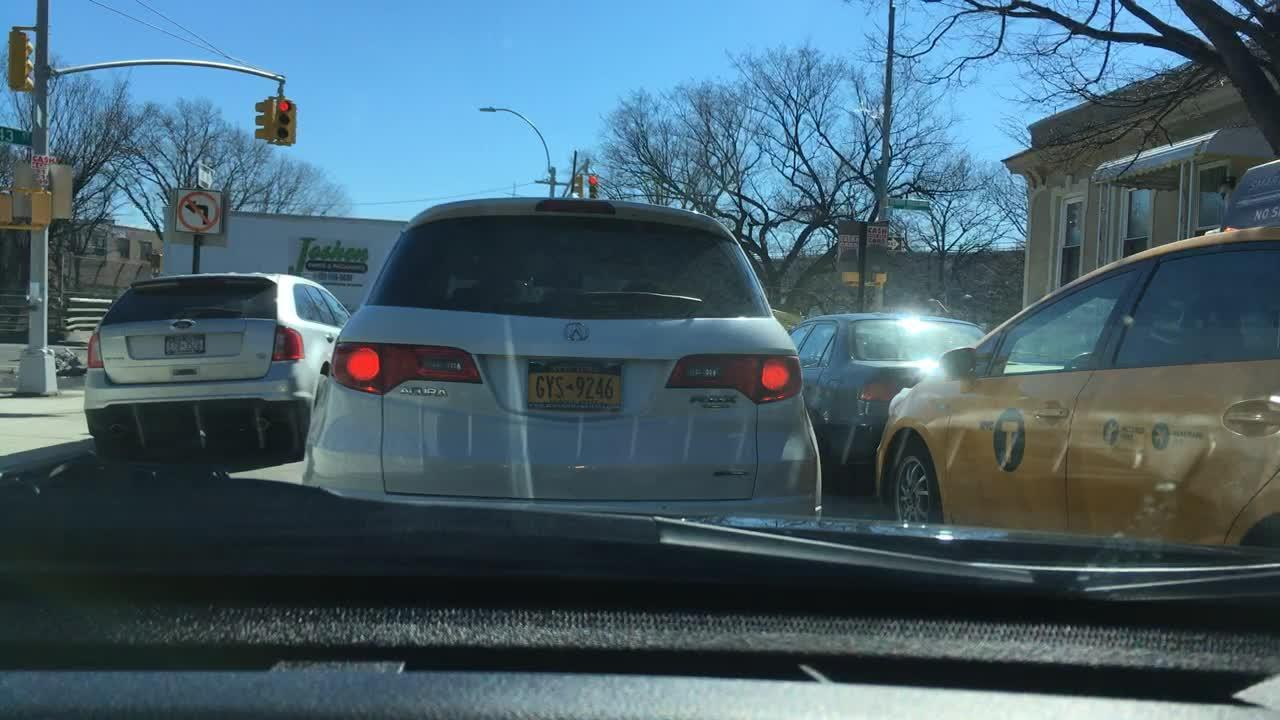acura: (558, 314, 597, 347)
